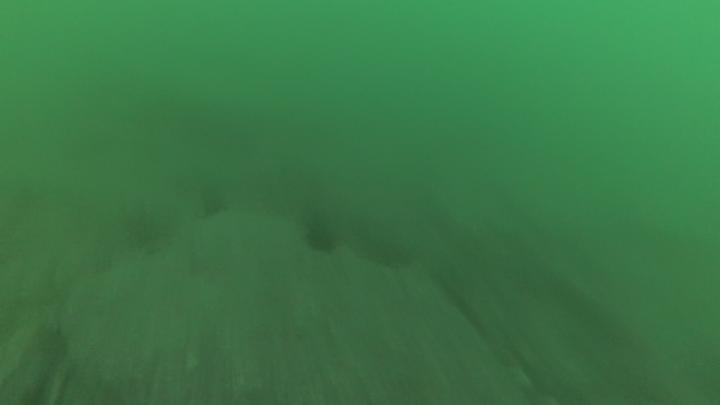echinus: (305, 223, 337, 253)
